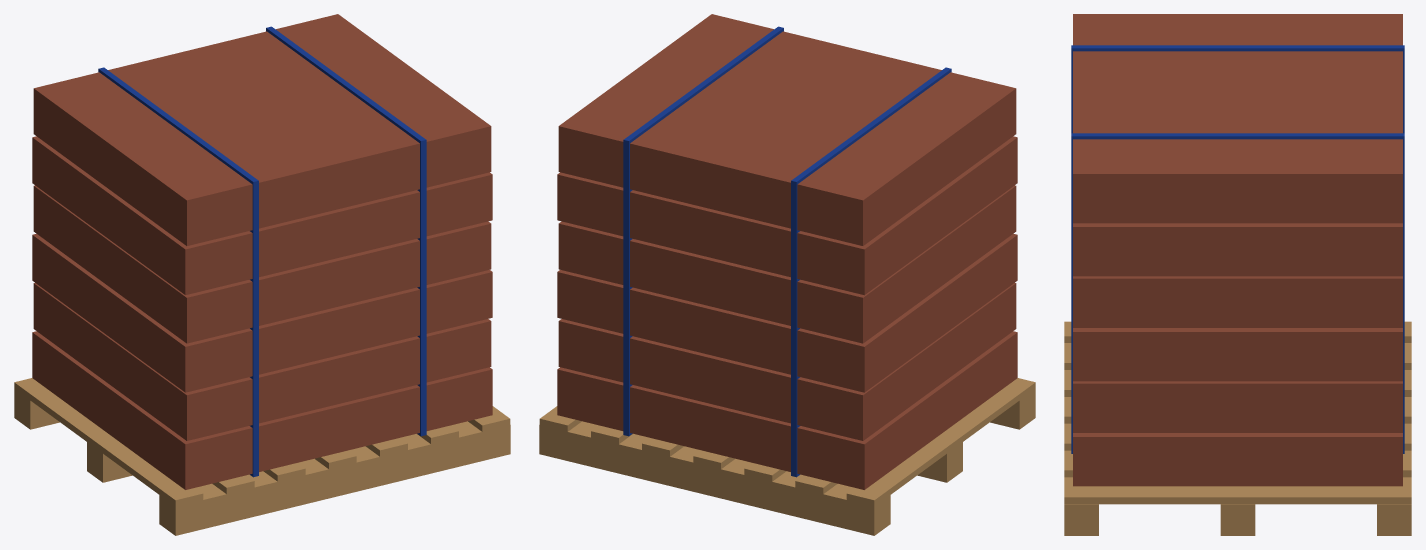
Rendered from plant.store.bricks.glb.
3 views of the same model, side by side, from view 1: azimuth 30°, elevation 25°; view 2: azimuth 150°, elevation 25°; view 3: azimuth 270°, elevation 25° (orthographic). The views are drawn at different scales.
Parts seen in each view (by area): view 1: main__brick, main__softwood, main__plastic_blue; view 2: main__brick, main__softwood, main__plastic_blue; view 3: main__brick, main__softwood, main__plastic_blue.
Boxes of the visible parts, x1,y1,x2,y2 form: main__brick: (32,14,492,489); main__softwood: (14,378,510,535); main__plastic_blue: (98,26,426,477); main__brick: (557,14,1017,489); main__softwood: (539,378,1035,535); main__plastic_blue: (623,26,951,477); main__brick: (1073,14,1402,486); main__softwood: (1064,321,1411,535); main__plastic_blue: (1071,45,1404,453).
Bounding box in the file's own units: 1.2 × 1.13 × 1.
